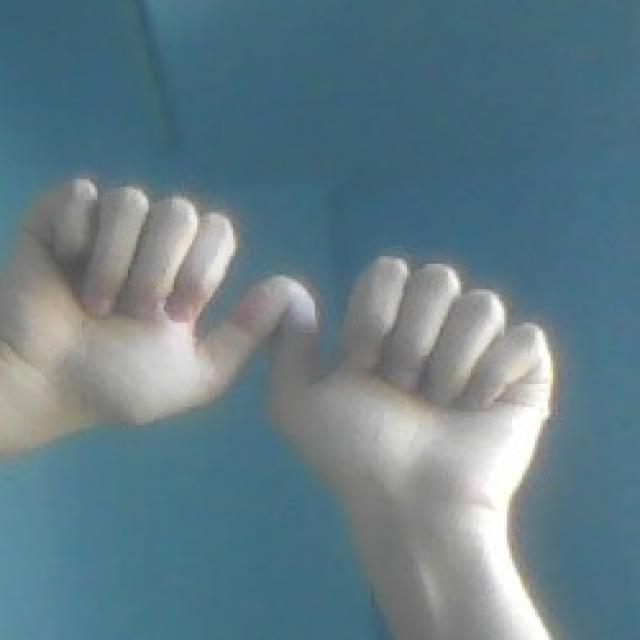Alphabet-A: (14, 171, 548, 518)
